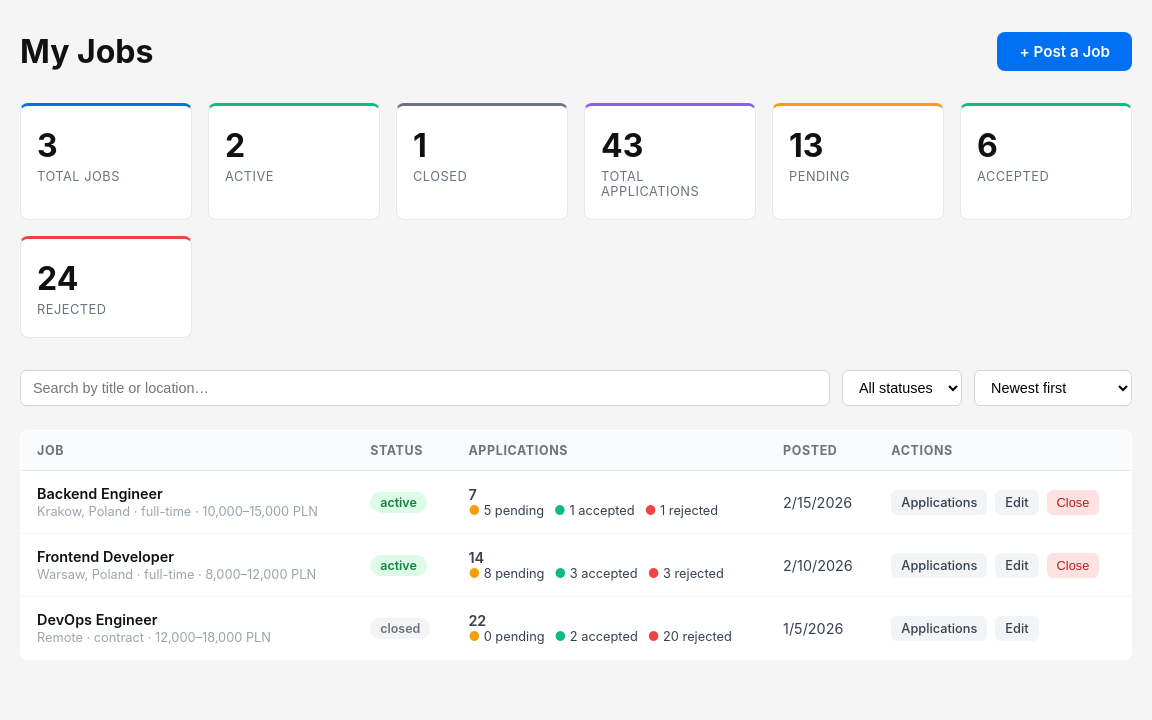
Test: MyJobsPage › filters jobs by search query
Type "Frontend" into the field with placeholder "Search by title or location…".
click(425, 388); type("Frontend")  # box [20,370,830,406]
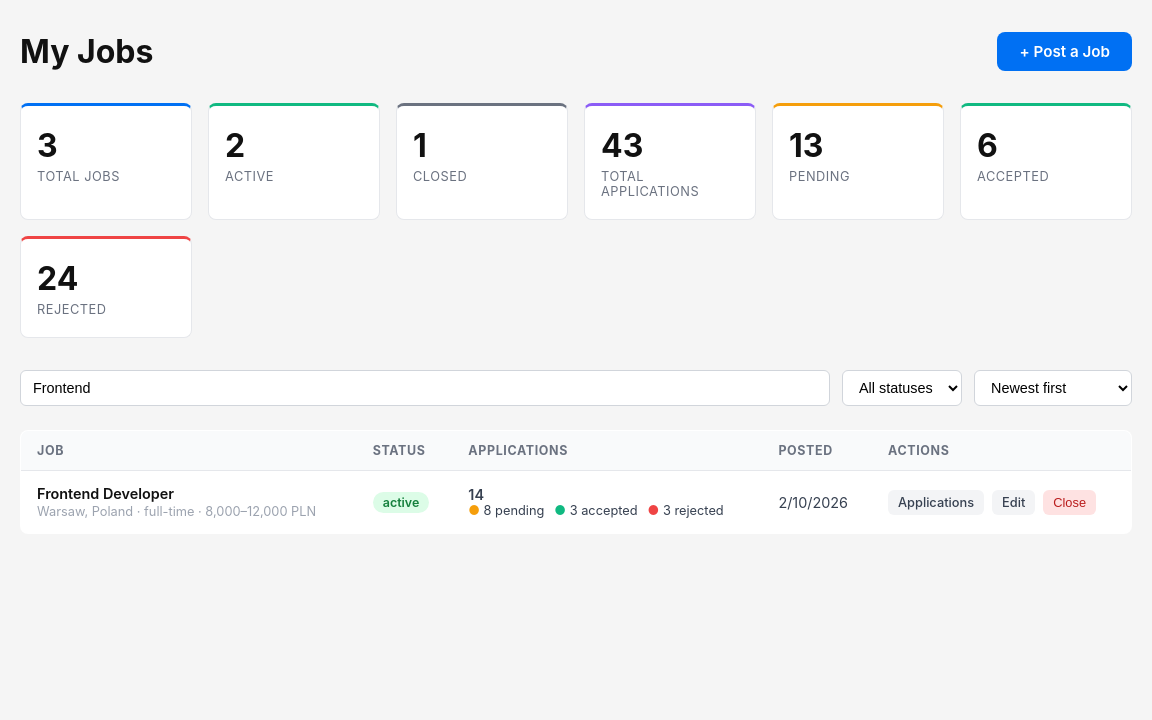
Expected: the text "Frontend Developer" is shown, [37,485,174,502]
Expected: the text "Backend Engineer" is gone
